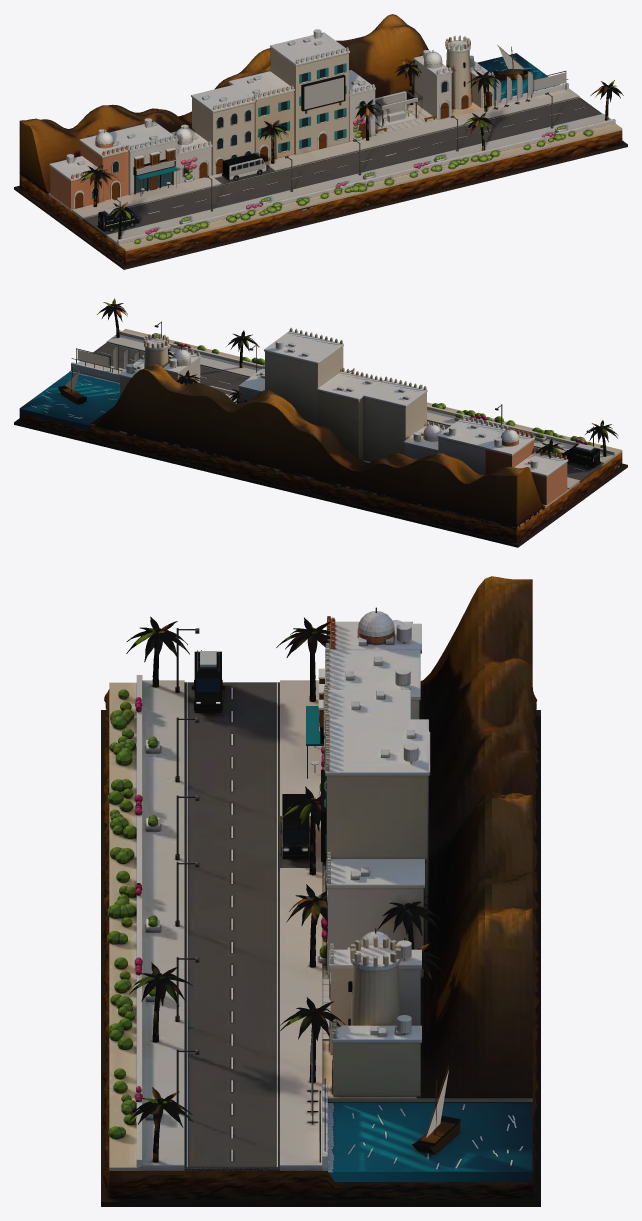
File: muscat-street-low.glb
3 views of the same model, one above another, from view 1: azimuth 30°, elevation 25°; view 2: azimuth 150°, elevation 25°; view 3: azimuth 270°, elevation 25° (orthographic). The views are drawn at different scales.
Parts seen in each view (by area): view 1: static_base, static_street, static_stops, static_props, sea, canvas_3_led, van_body, canvas_4_stand_wall, canvas_5_flags_banner; view 2: static_base, static_street, sea, static_stops, static_props, van_body; view 3: static_base, static_street, sea, static_stops, static_props, van_body.
Boxes of the visible parts, x1,y1,x2,y2 form: static_base: (14, 14, 627, 269); static_street: (49, 29, 494, 209); static_stops: (79, 60, 623, 239); static_props: (113, 45, 592, 243); sea: (477, 53, 568, 106); canvas_3_led: (304, 77, 343, 109); van_body: (97, 207, 139, 231); canvas_4_stand_wall: (375, 93, 404, 115); canvas_5_flags_banner: (533, 72, 565, 90); static_base: (14, 329, 627, 547); static_street: (119, 327, 568, 504); sea: (19, 358, 123, 429); static_stops: (76, 298, 618, 458); static_props: (58, 321, 606, 448); van_body: (562, 443, 600, 468); static_base: (101, 576, 540, 1206); static_street: (318, 607, 430, 1096); sea: (322, 1078, 532, 1182); static_stops: (126, 616, 444, 1162); static_props: (107, 628, 460, 1154); van_body: (191, 650, 224, 712).
Bounding box in the file's own units: 87.1 × 18.8 × 32.21.
Materials: 24 (24 with a texture image).
